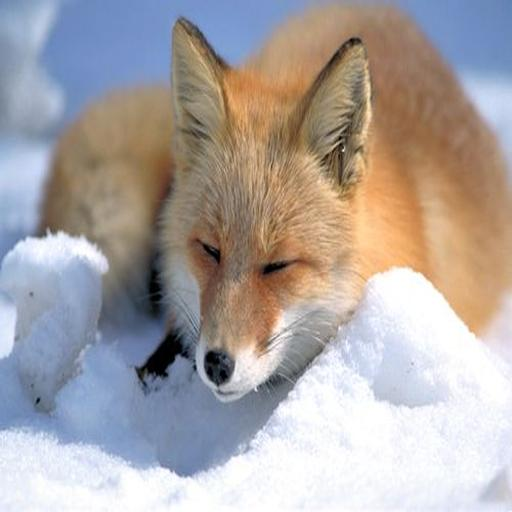Fox: (29, 0, 512, 400)
